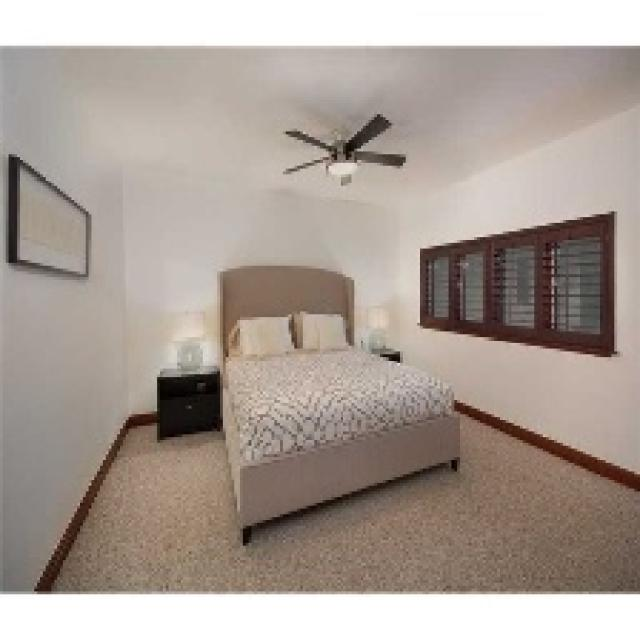Bed: (217, 263, 460, 546)
